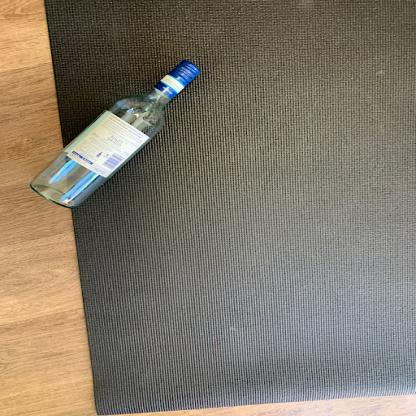trash: (28, 59, 208, 209)
